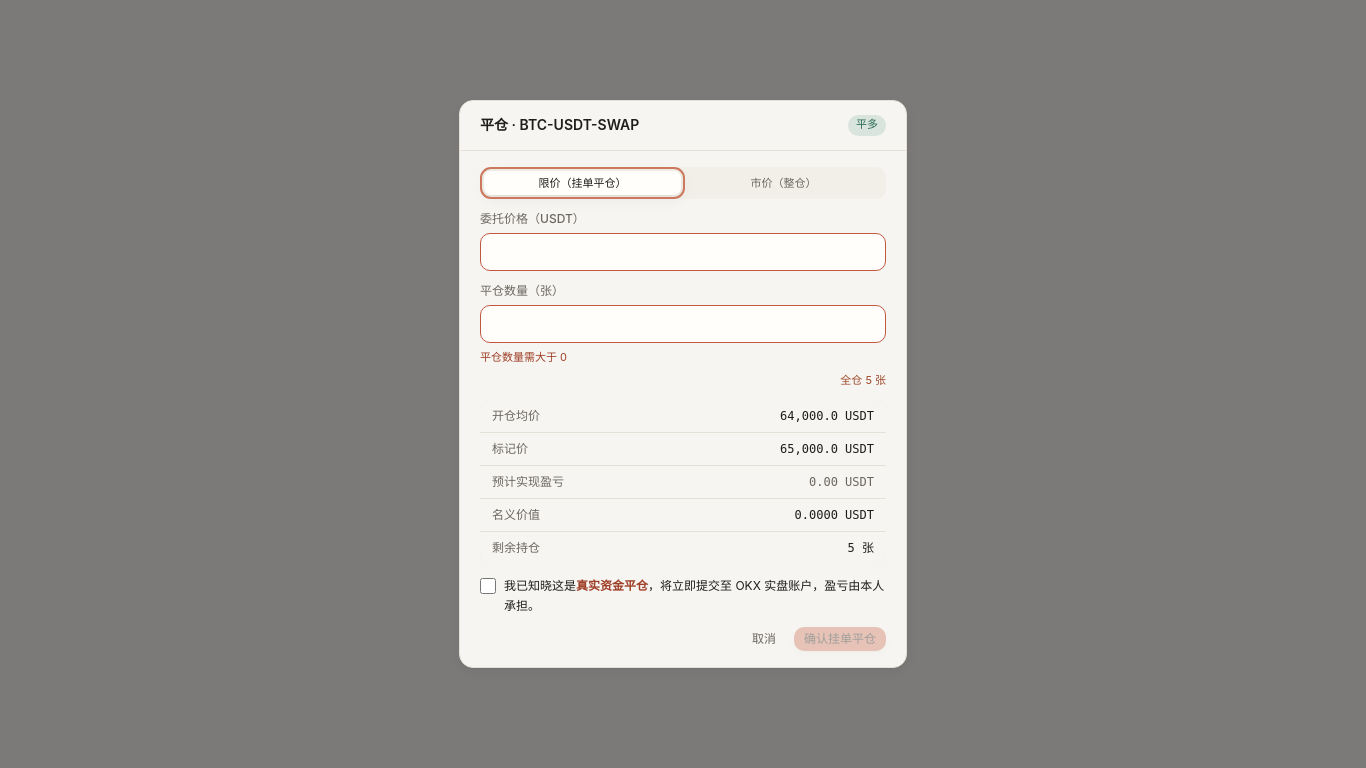
Test case: ClosePositionModal › submits a limit close with mapped args after acknowledgement
The image size is (1366, 768).
Step 1. Type "3" into the number field labelled "平仓数量（张）" → (683, 324), box [480,305,886,343]
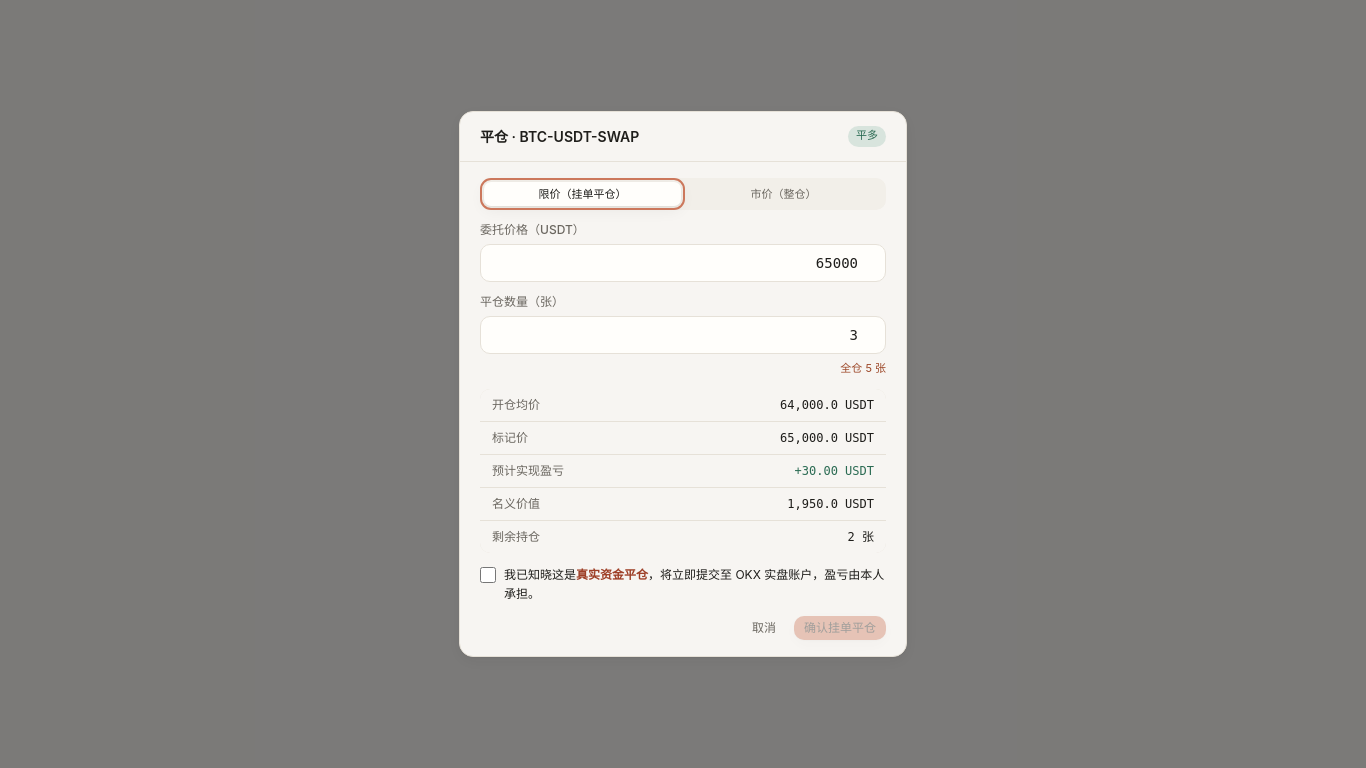
Step 2. Click the checkbox named "我已知晓这是真实平仓" → (488, 575), box [480,567,496,583]
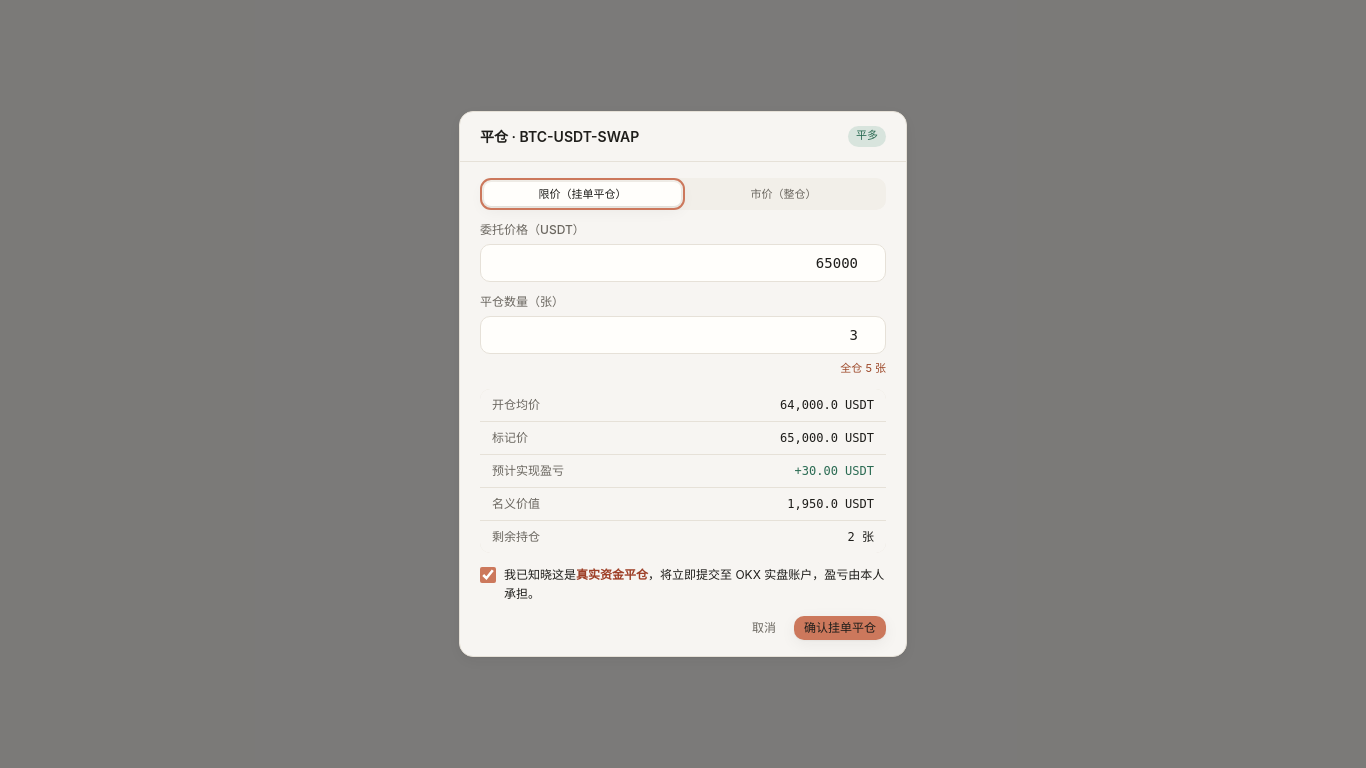
Check: the button "确认挂单平仓" is enabled
Step 3. Click the button "确认挂单平仓" → (840, 628), box [794,616,886,640]
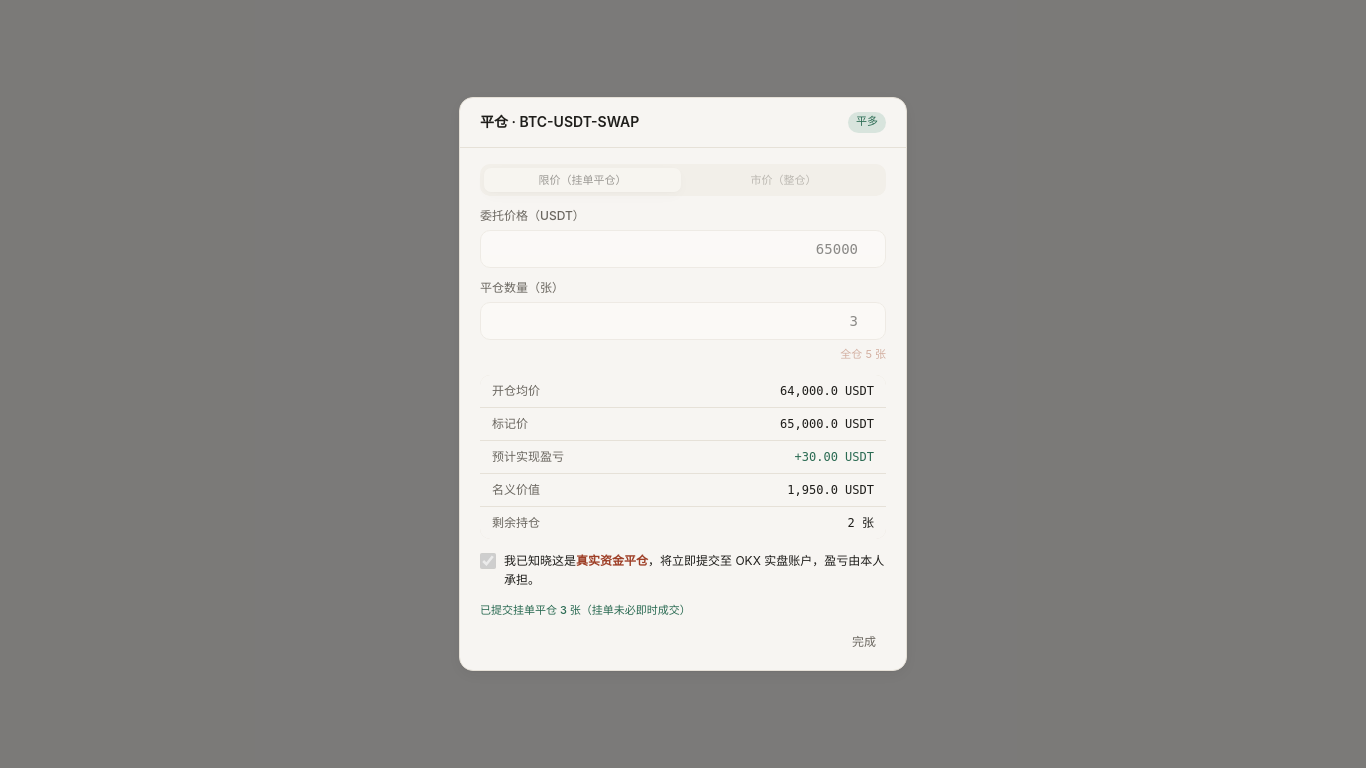
Check: the text "已提交挂单平仓 3 张（挂单未必即时成交）" is shown, box [480,602,691,616]
